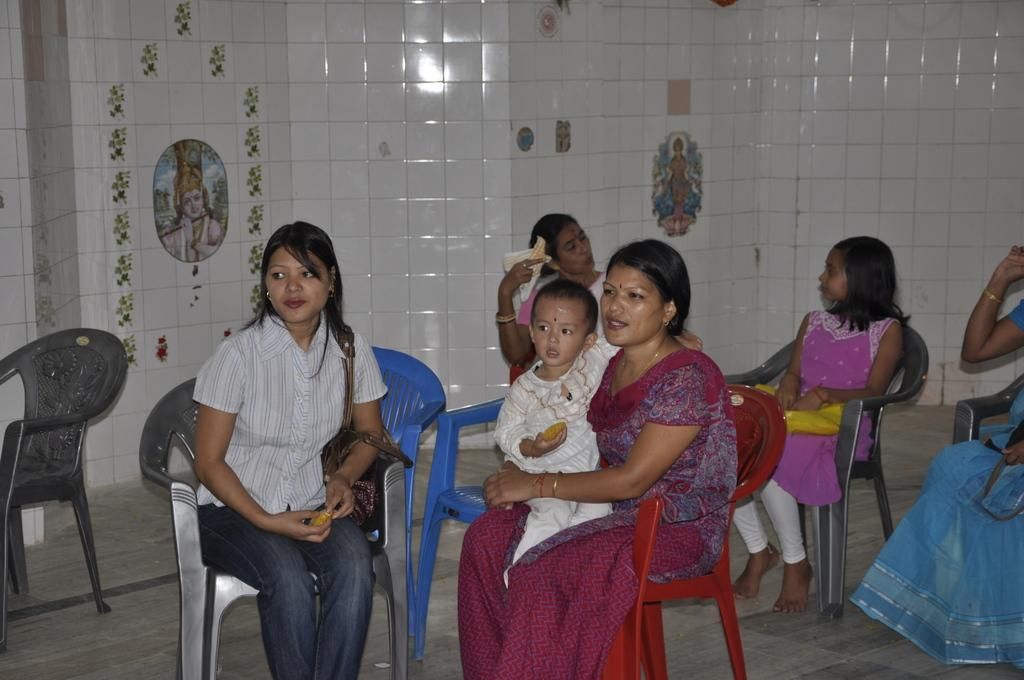Chair: (138, 376, 411, 679), (723, 319, 929, 618), (601, 383, 787, 679), (0, 327, 127, 652)
